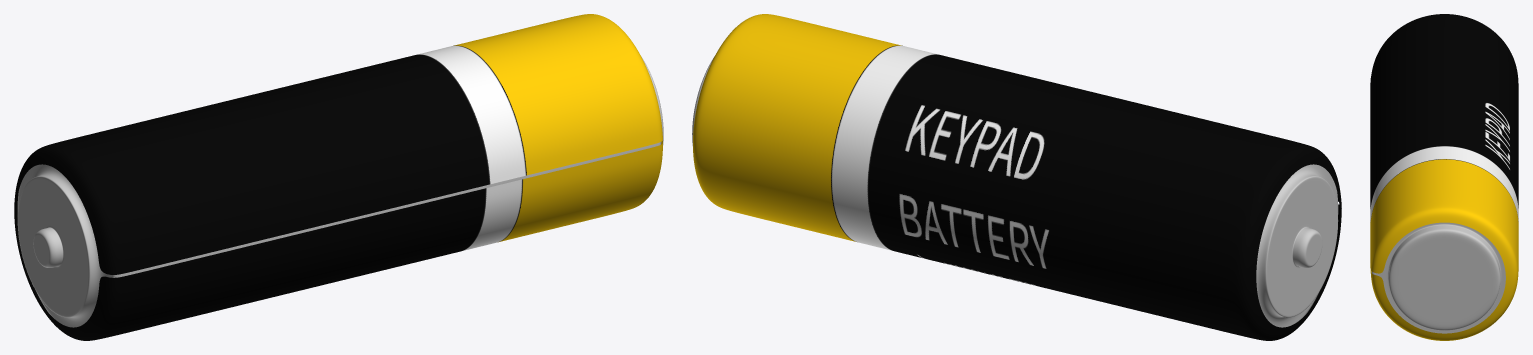
Rendered from battery_yellow.fbx.
3 renders of one model, left to right at view 1: azimuth 30°, elevation 25°; view 2: azimuth 150°, elevation 25°; view 3: azimuth 270°, elevation 25°, orthographic. The views are drawn at different scales.
Visible parts, largest first — view 1: BurntBattery_03; view 2: BurntBattery_03; view 3: BurntBattery_03.
Boxes of the visible parts, x1,y1,x2,y2 form: BurntBattery_03: [14, 14, 663, 340]; BurntBattery_03: [692, 14, 1341, 340]; BurntBattery_03: [1370, 14, 1518, 340].
Size of the model in its own units: 1126 by 335 by 336.
